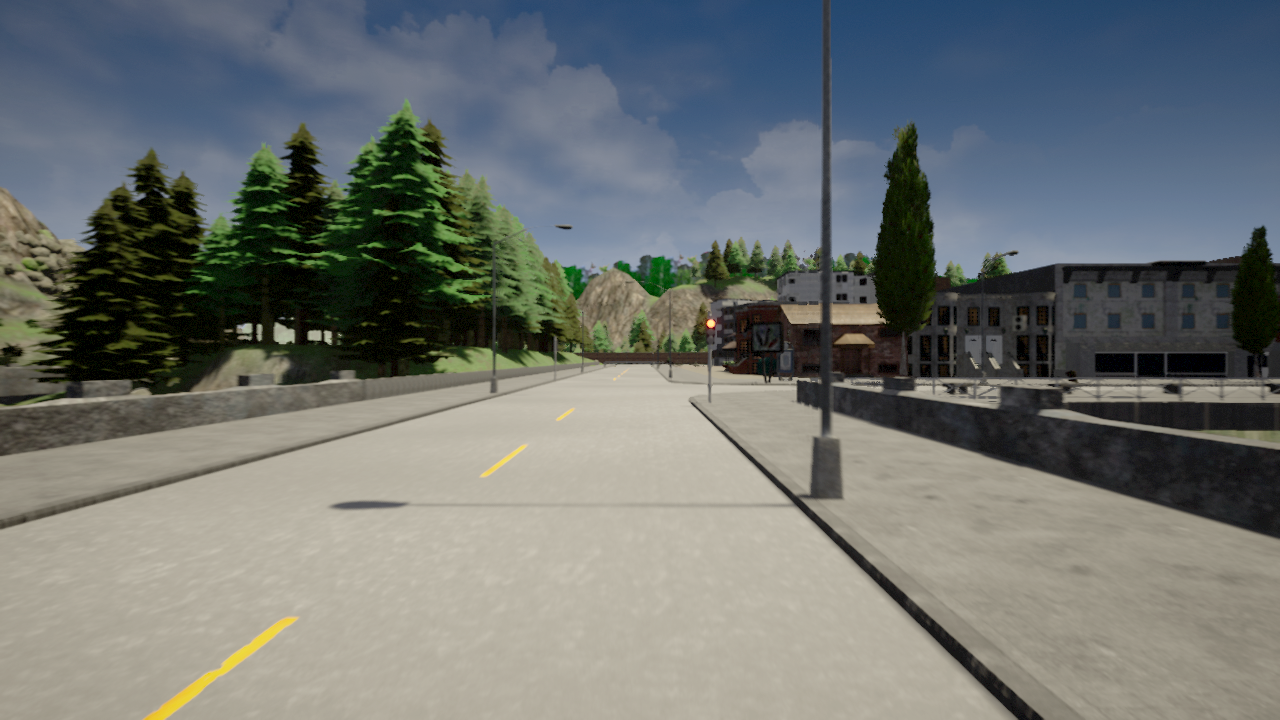red: (705, 318, 717, 345)
